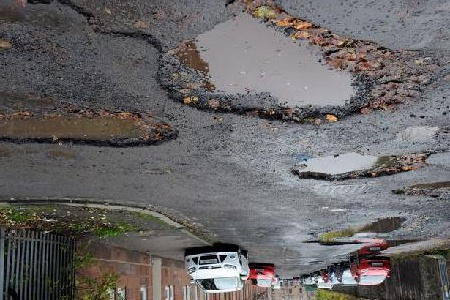pothole: (148, 0, 432, 128), (0, 105, 180, 151), (287, 146, 436, 183), (301, 226, 364, 247), (390, 178, 449, 200), (361, 212, 409, 237)
